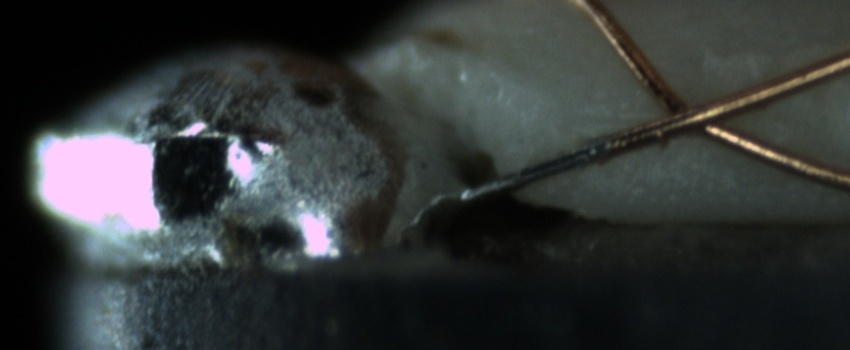CL: (650, 78, 756, 147)
DL: (568, 102, 681, 148)
TS: (460, 140, 610, 203)
TTCW: (455, 118, 666, 205)
